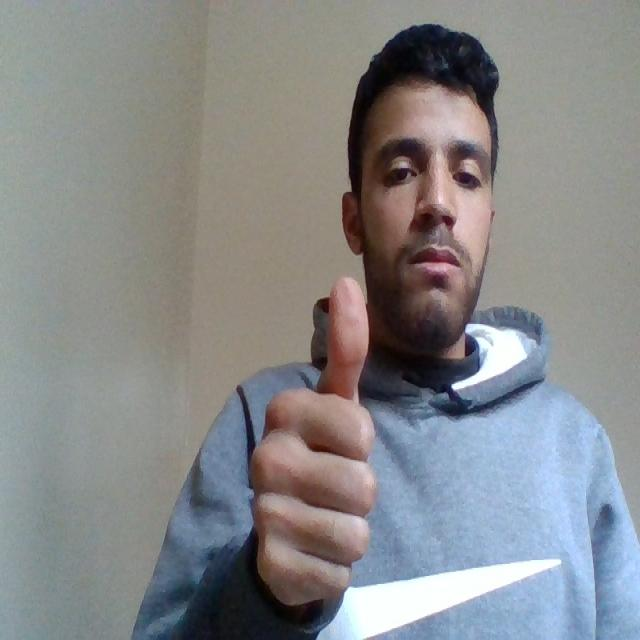Yes: (243, 266, 391, 606)
